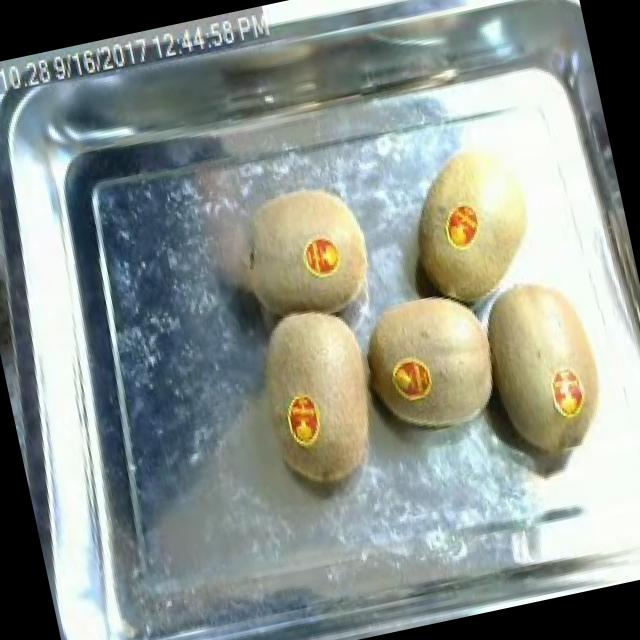Fruit: (242, 291, 402, 504), (389, 125, 556, 323), (460, 255, 624, 448), (348, 274, 512, 452)
